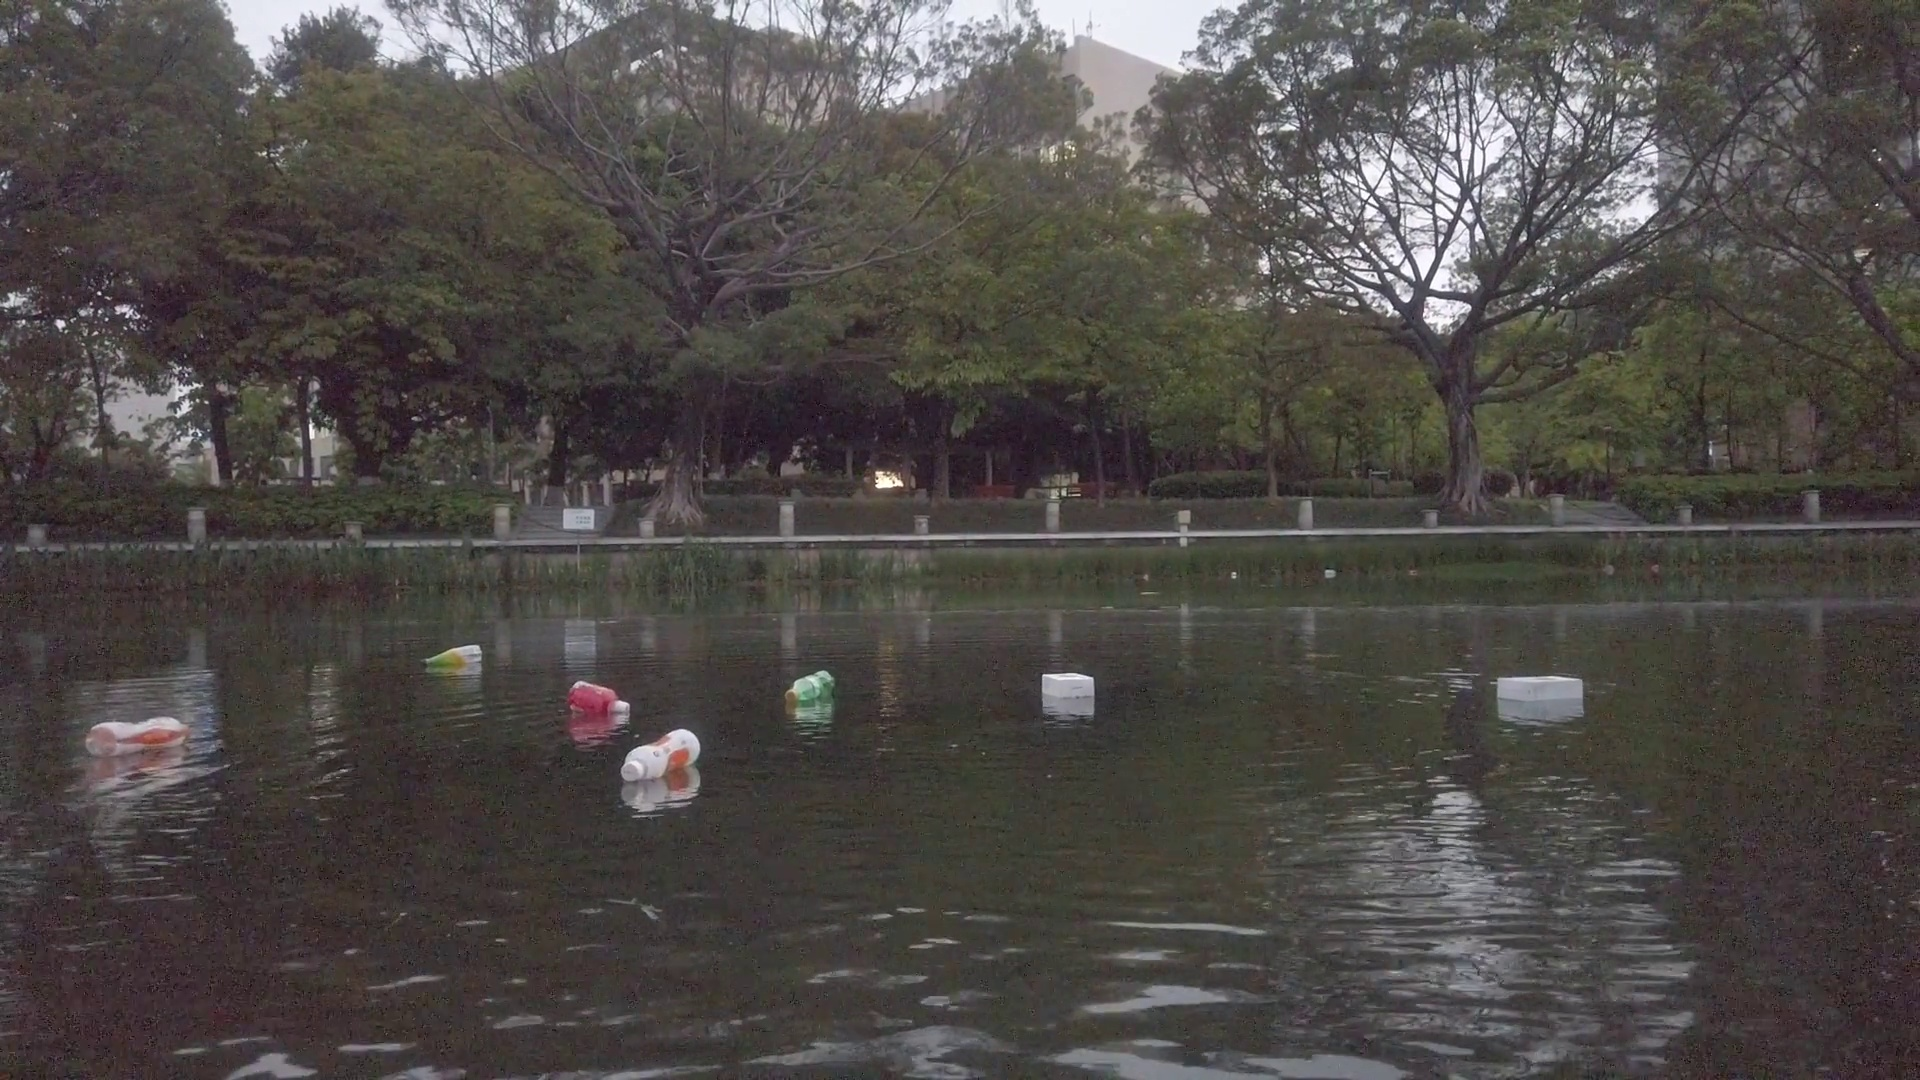bottle: (622, 727, 702, 783), (84, 716, 193, 756), (568, 676, 632, 720), (785, 673, 835, 702), (421, 644, 483, 666)
carton: (1498, 675, 1584, 703), (1042, 670, 1095, 698), (1323, 568, 1338, 578)
